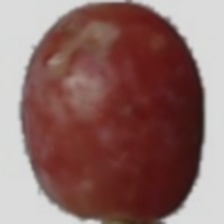grapes: (33, 0, 175, 199)
